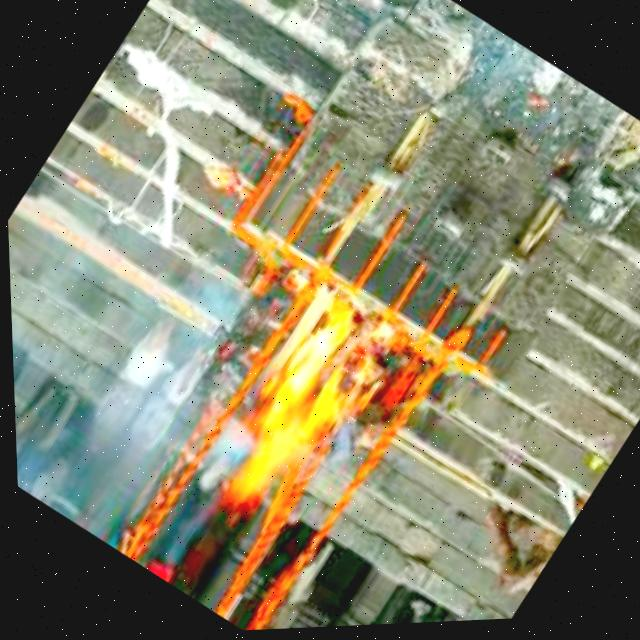Fire: (172, 274, 410, 546)
